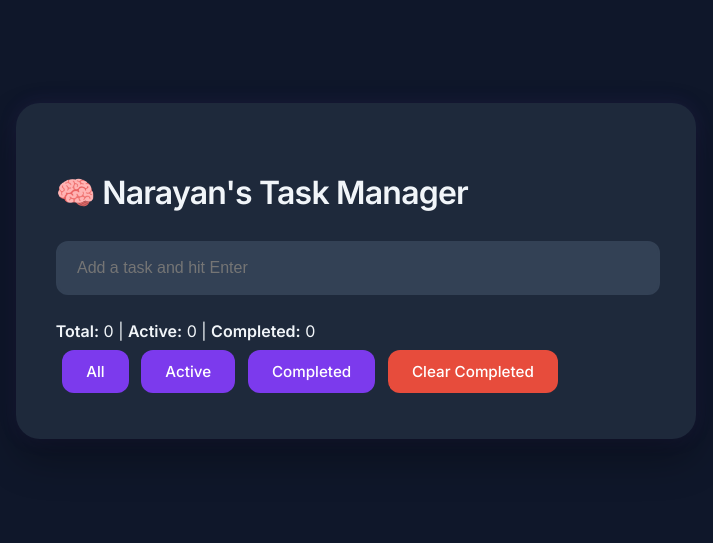
Test: TaskFilters › shows All / Active / Completed correctly
The width and height of the screenshot is (713, 543).
Type "Task A" into the field with placeholder "Add a task and hit Enter" at coordinates (358, 268), box [56,241,660,295]
Then press Enter
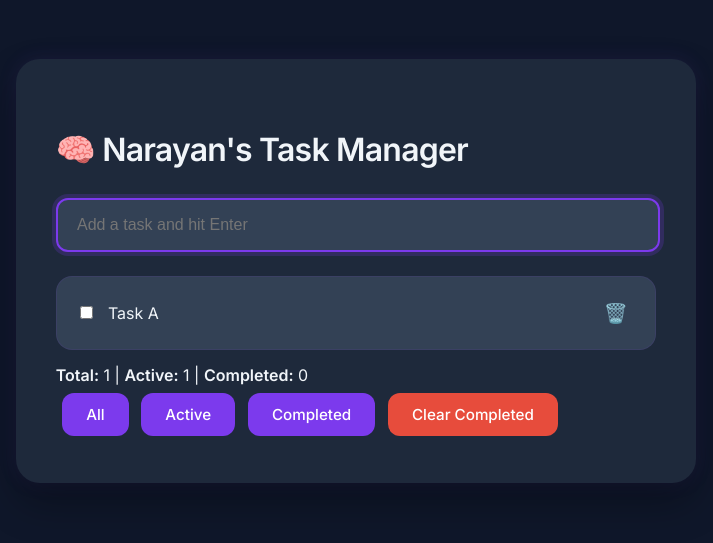
Type "Task B" into the field with placeholder "Add a task and hit Enter" at coordinates (358, 225), box [56,198,660,252]
Then press Enter
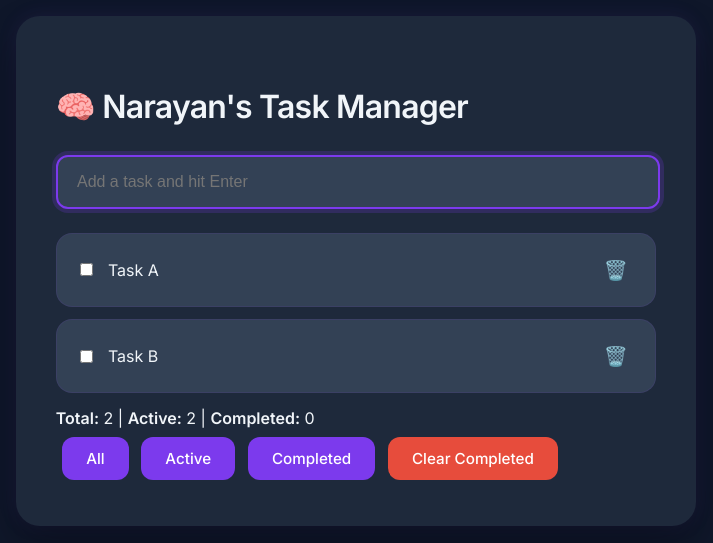
Click the checkbox labelled "Task B" at coordinates (86, 356), box [80,350,93,363]
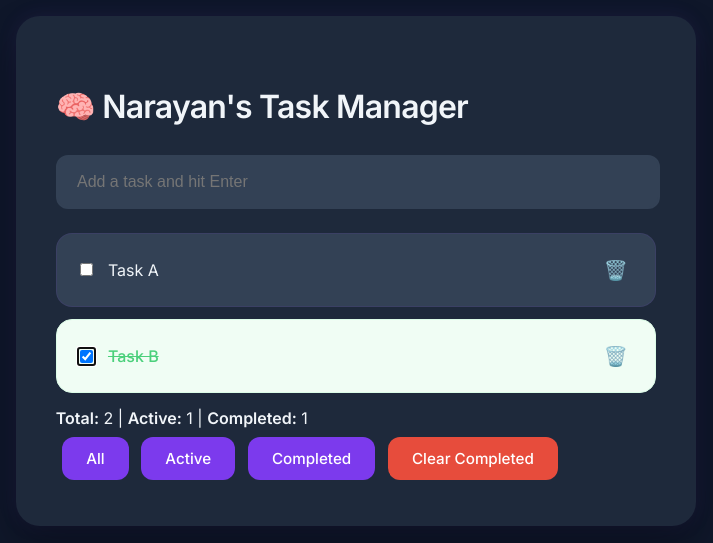
Click the button "Completed" at coordinates (312, 458), box [248,437,375,480]
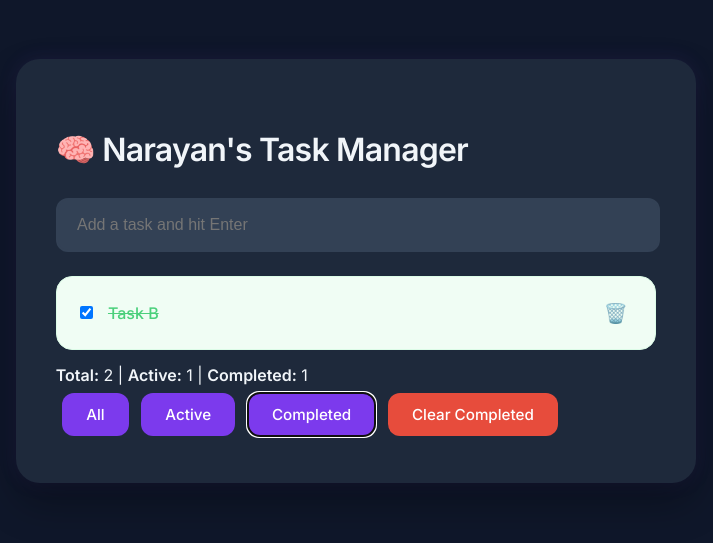
Now the text "Task B" is shown, box [108,301,159,325]
Click the button "Active" at coordinates (188, 415), box [141,393,235,436]
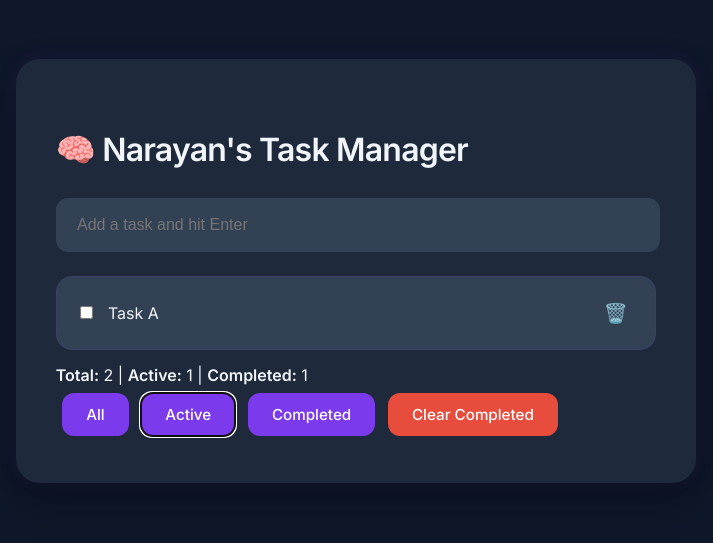
Now the text "Task A" is shown, box [108,301,159,325]
Now the text "Task B" is gone
Click the button "All" at coordinates (95, 415), box [62,393,129,436]
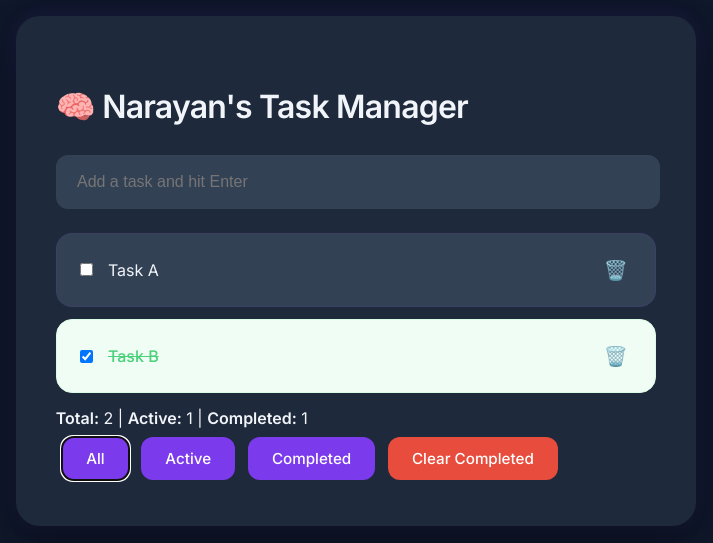
Now the text "Task A" is shown, box [108,258,159,282]
Now the text "Task B" is shown, box [108,344,159,368]
